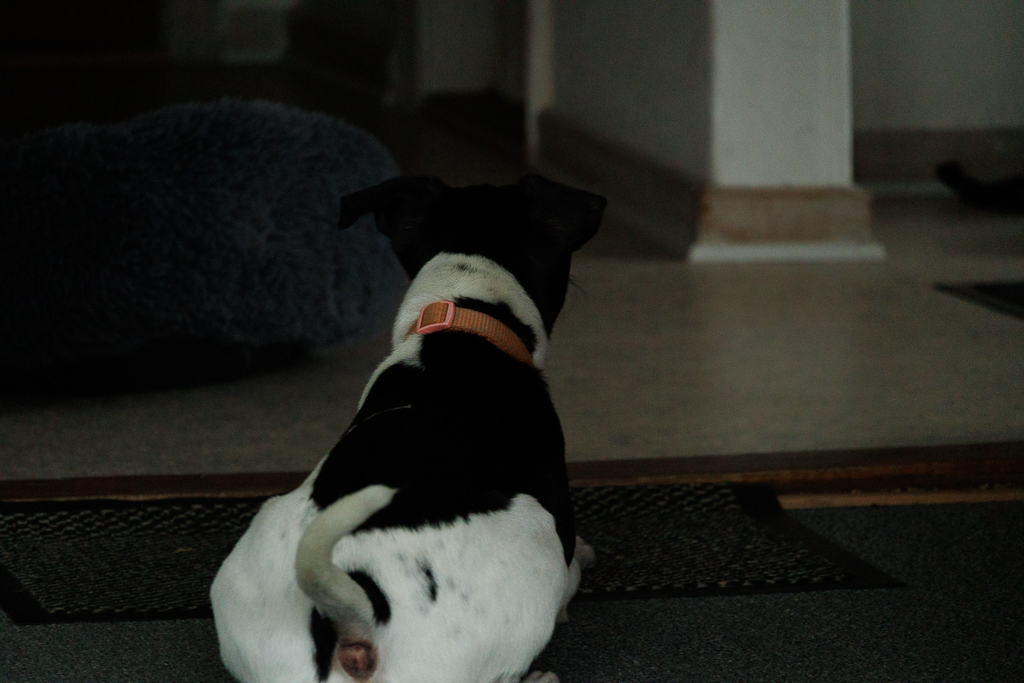Dog: (186, 156, 626, 683)
